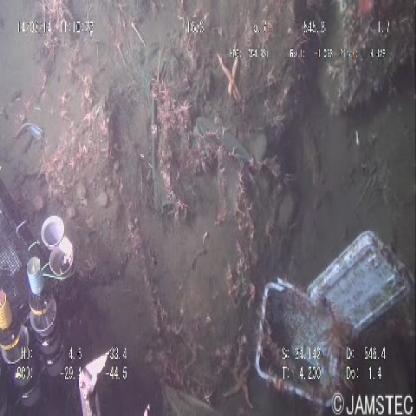Rov: (1, 140, 158, 416)
Rác: (241, 209, 415, 416)
